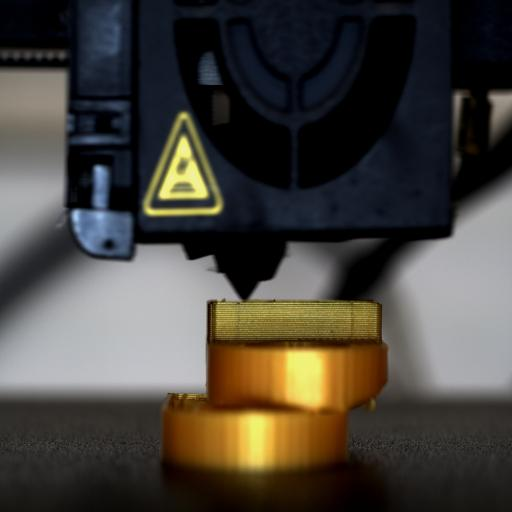layer_shift: (160, 385, 390, 419)
